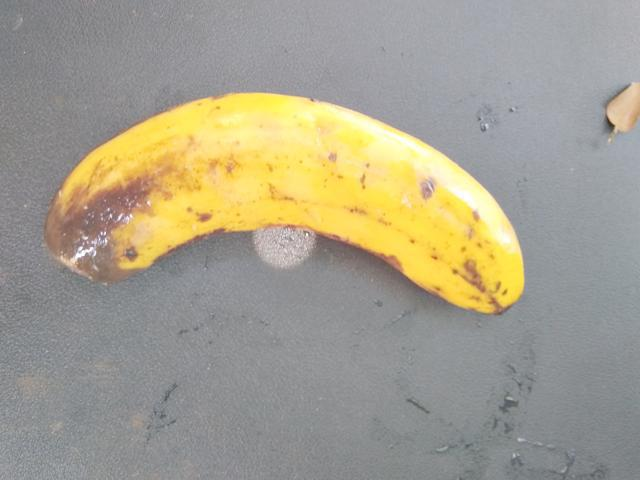overripe: (176, 73, 536, 336)
rotten: (25, 109, 229, 318)
